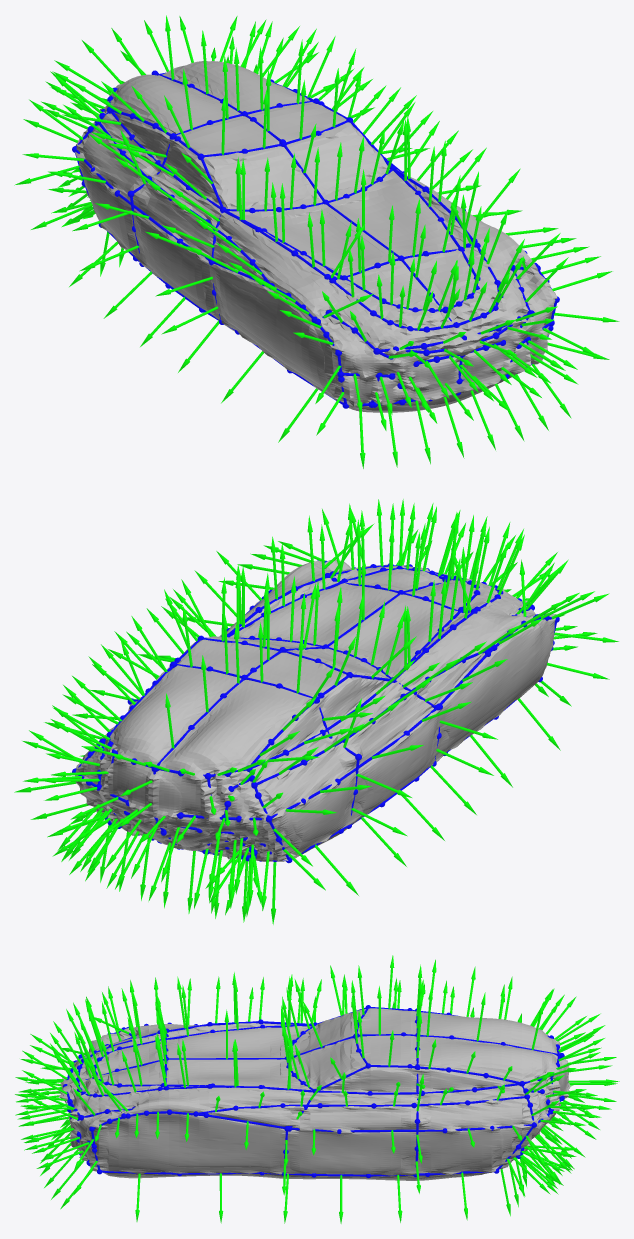
Rendered from ils_car1.gltf.
3 views of the same model, one above another, from view 1: azimuth 30°, elevation 25°; view 2: azimuth 150°, elevation 25°; view 3: azimuth 270°, elevation 25° (orthographic). The views are drawn at different scales.
Bounding box in the file's own units: 0.5774 × 0.3956 × 1.1.
